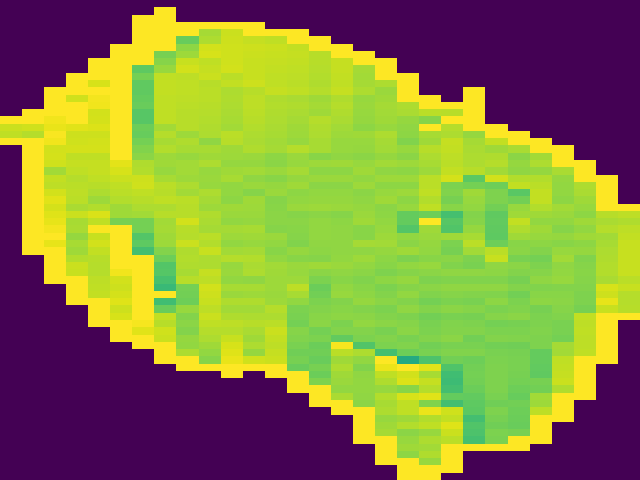car_0027: (2, 1, 640, 476)
